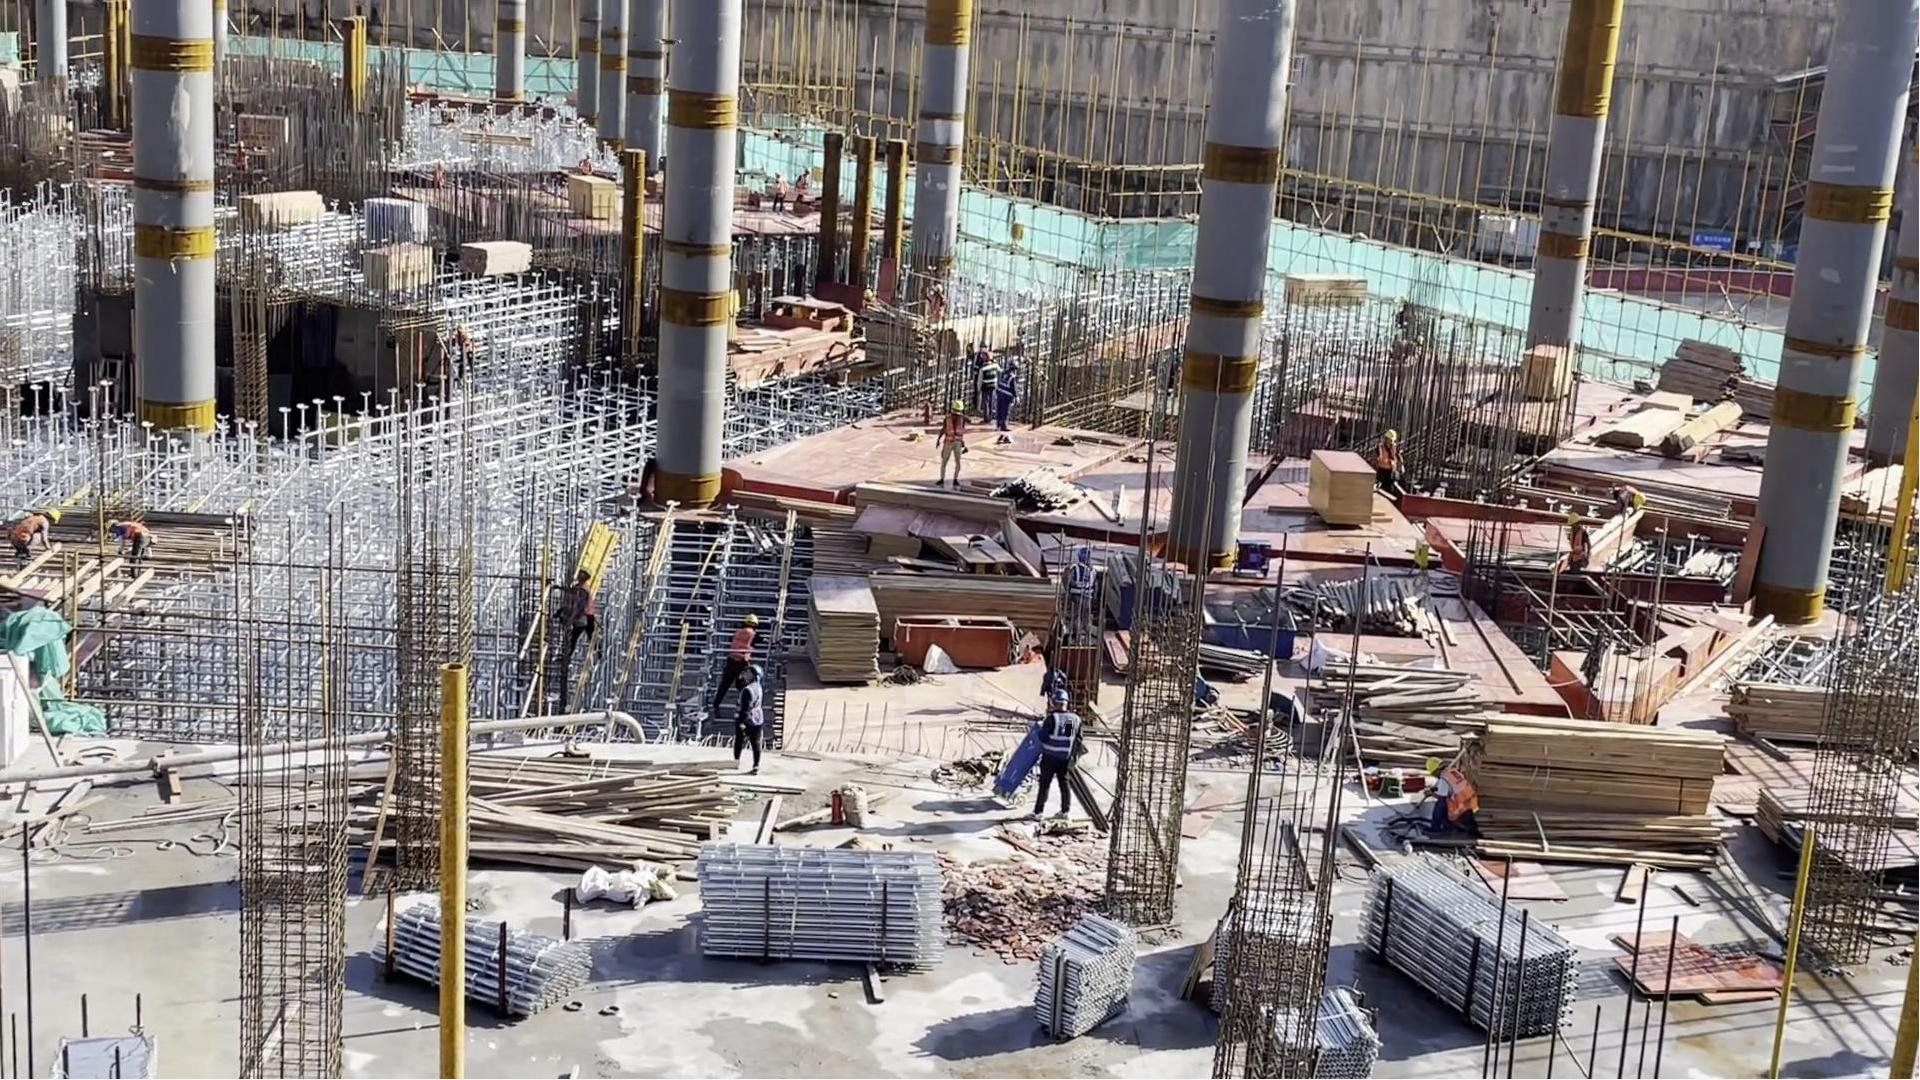helmet: (1426, 754, 1443, 774), (1050, 688, 1069, 704), (741, 614, 760, 628), (1563, 512, 1581, 525), (749, 664, 764, 681), (949, 400, 964, 414), (978, 349, 994, 363), (577, 563, 594, 576), (1077, 547, 1090, 562), (1383, 428, 1397, 441), (1008, 358, 1020, 368)
person: (546, 561, 605, 704), (1035, 684, 1085, 825), (1422, 751, 1487, 854), (731, 659, 768, 766), (101, 516, 159, 579), (5, 507, 62, 564), (1063, 545, 1097, 640), (936, 402, 972, 482), (1563, 510, 1596, 583), (1373, 424, 1405, 493), (996, 356, 1023, 432), (972, 350, 999, 419), (726, 613, 758, 669), (1614, 485, 1647, 517), (923, 282, 946, 325), (793, 166, 812, 210), (770, 172, 789, 215)
vest: (1440, 767, 1476, 821), (1045, 712, 1075, 772), (737, 682, 764, 726), (728, 629, 757, 663), (1565, 524, 1589, 564), (1069, 562, 1094, 600), (574, 583, 595, 622), (943, 413, 964, 444), (1377, 445, 1398, 471), (979, 365, 997, 392), (999, 371, 1017, 398), (1633, 494, 1646, 508)
